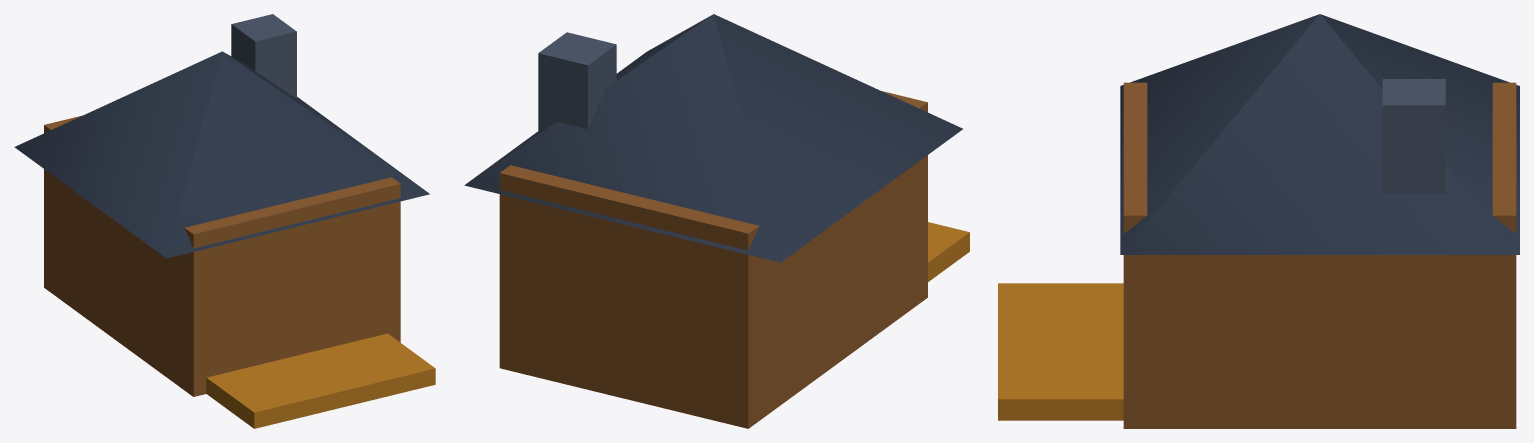
File: sample_cabin.glb
The picture shows the model from 3 angles, left to right: view 1: azimuth 30°, elevation 25°; view 2: azimuth 150°, elevation 25°; view 3: azimuth 270°, elevation 25°; orthographic projection. The views are drawn at different scales.
Visible parts, largest first — view 1: AlpineCabin; view 2: AlpineCabin; view 3: AlpineCabin.
Boxes of the visible parts, x1,y1,x2,y2 form: AlpineCabin: [14, 14, 435, 428]; AlpineCabin: [464, 14, 969, 428]; AlpineCabin: [998, 14, 1519, 428].
Bounding box in the file's own units: 5.09 × 4.9 × 6.65.
